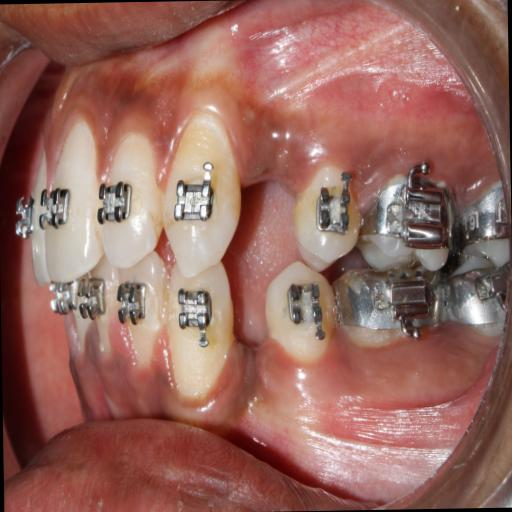correct_brace: (296, 166, 362, 266), (174, 170, 216, 228), (98, 172, 134, 228), (38, 180, 72, 238)
incorrect_brace: (96, 133, 164, 269), (314, 182, 352, 241)
